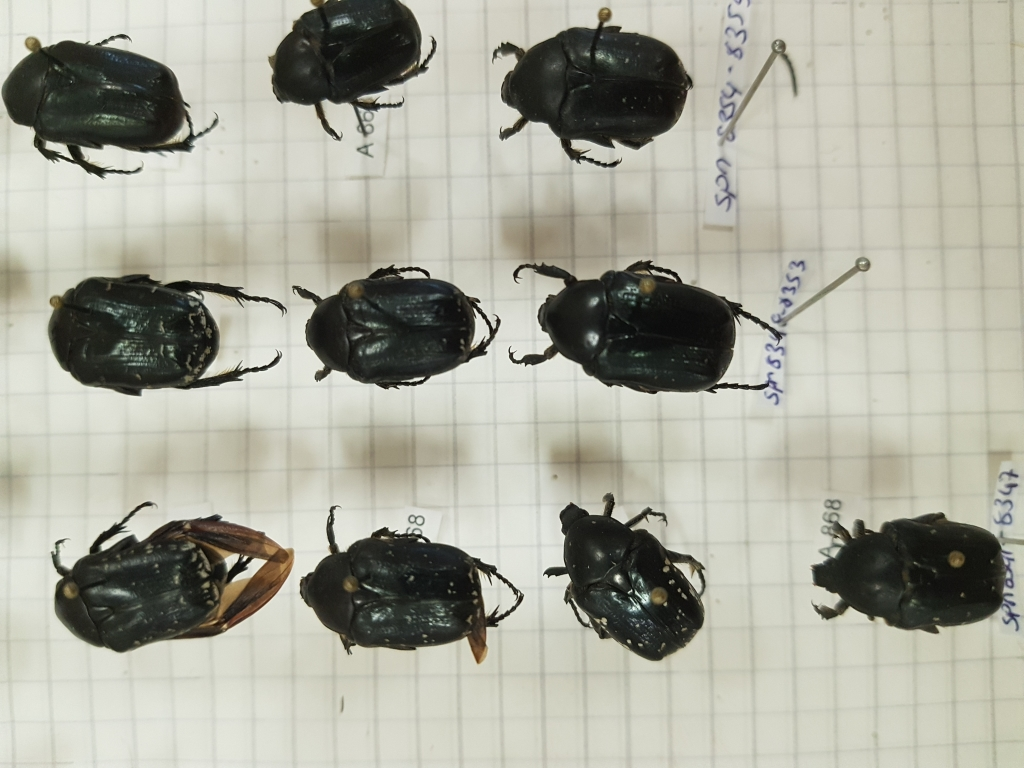Protaetia_funebris_funebris: (502, 237, 784, 421), (300, 496, 529, 683), (45, 494, 299, 660), (37, 261, 291, 400), (539, 486, 719, 673)
